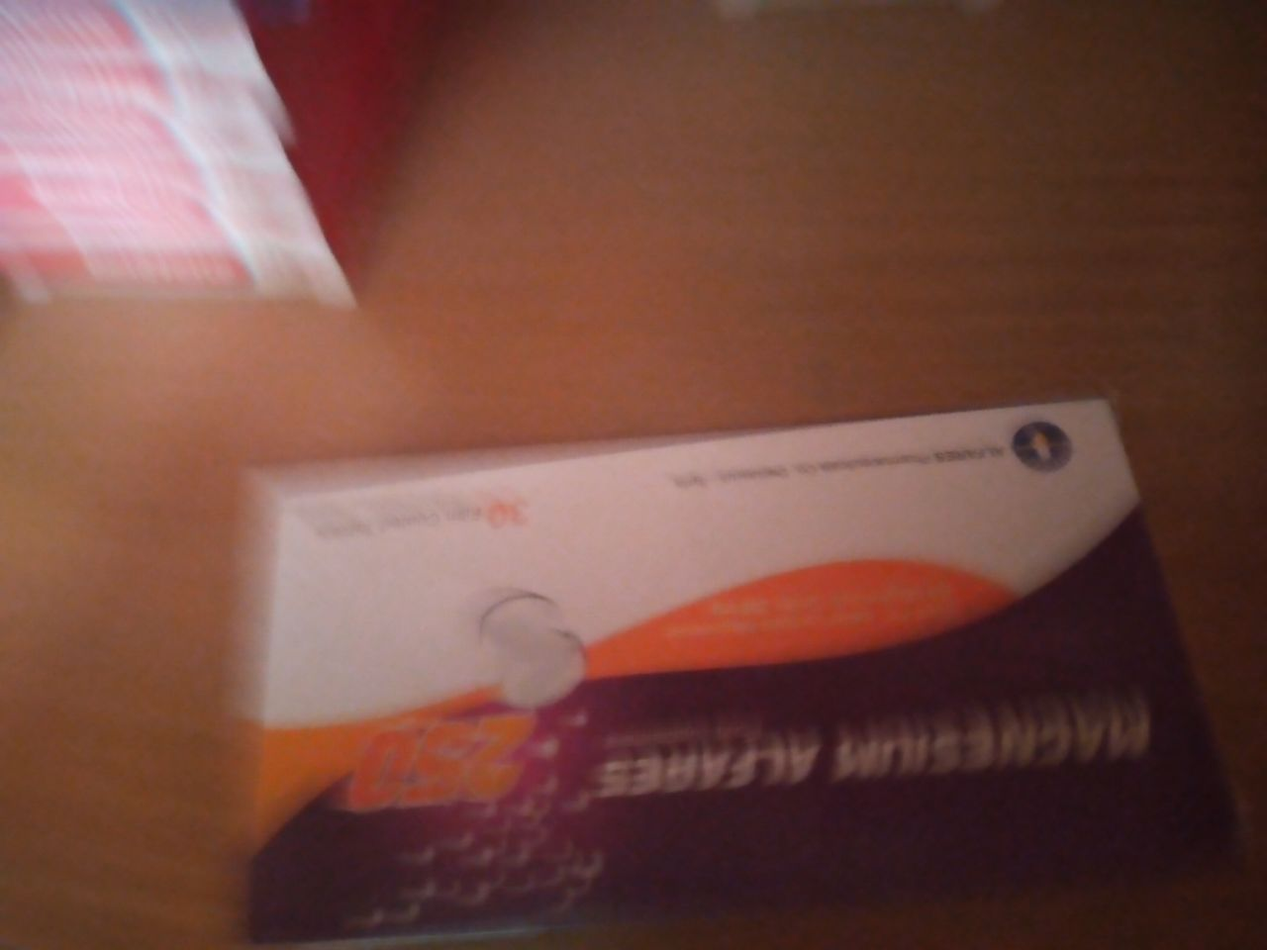Medicine: (220, 386, 1255, 948)
